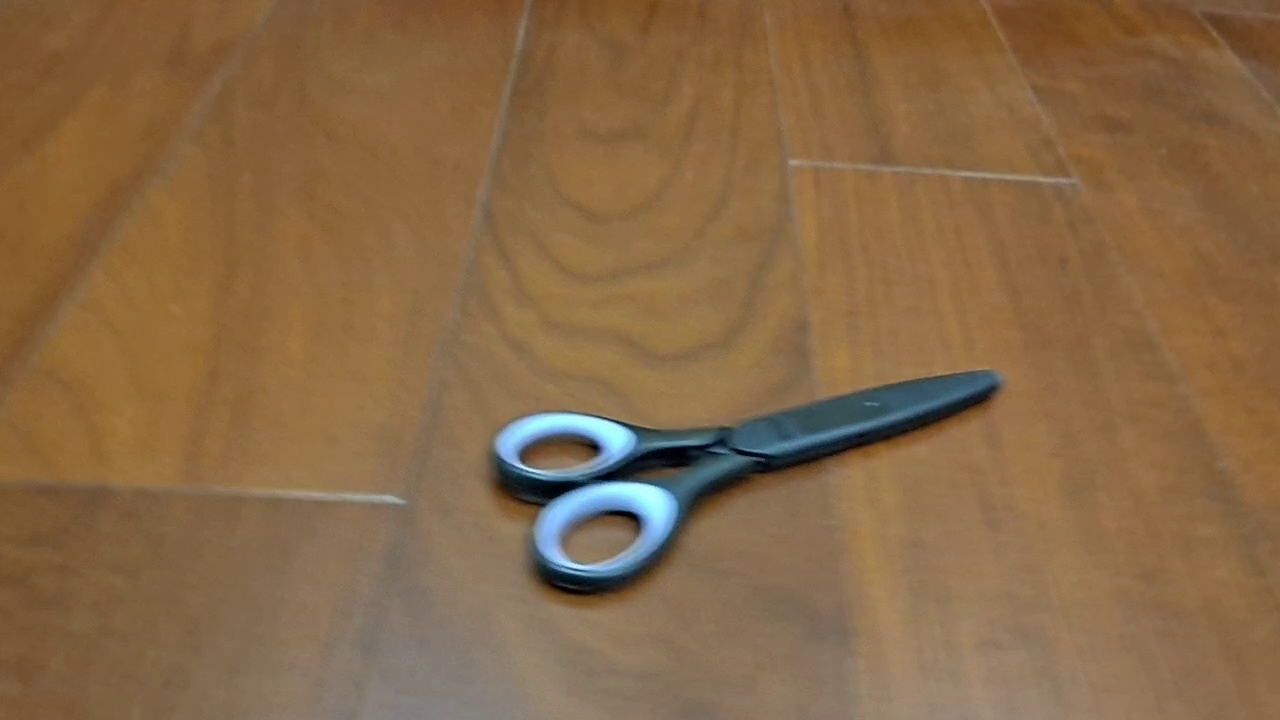scissors: (488, 367, 1002, 597)
